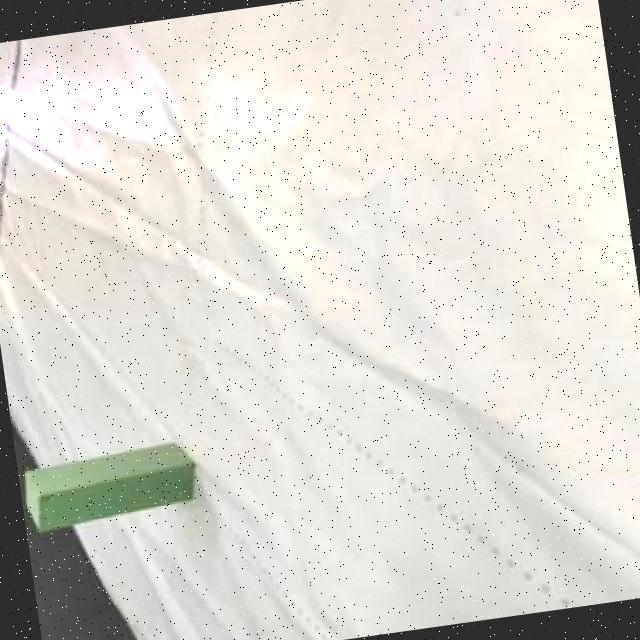greenbox: (18, 444, 200, 534)
